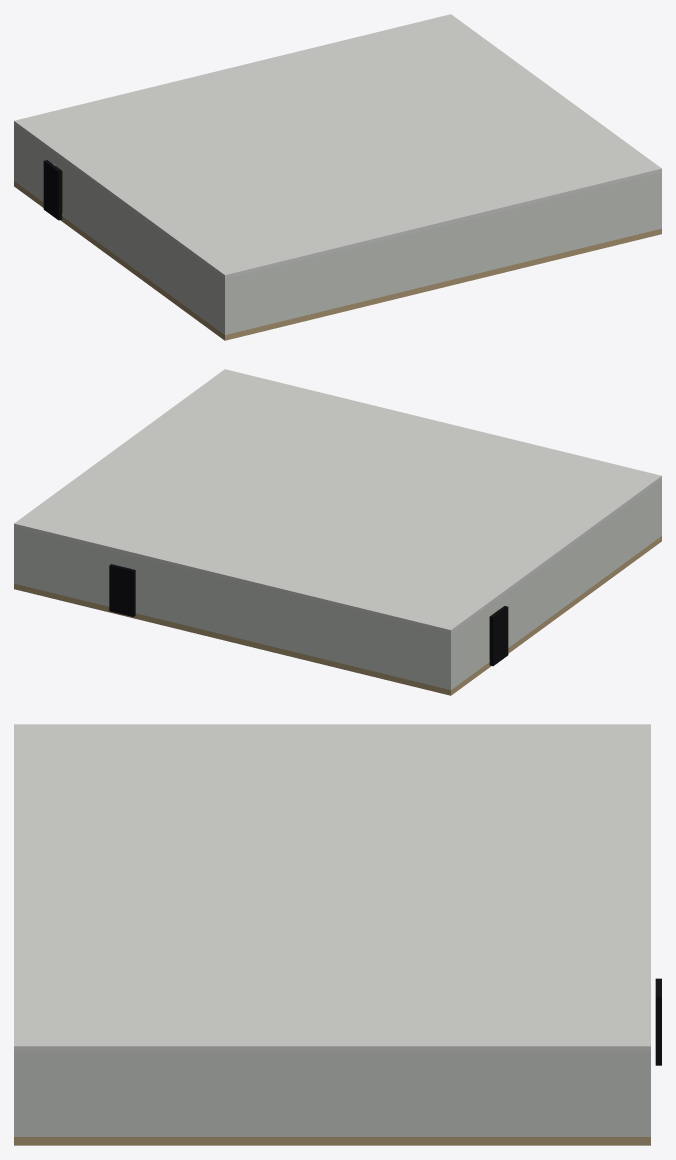
File: rdwe_office_night.glb
3 renders of one model, top to bottom at view 1: azimuth 30°, elevation 25°; view 2: azimuth 150°, elevation 25°; view 3: azimuth 270°, elevation 25°, orthographic. The views are drawn at different scales.
Visible parts, largest first — view 1: Room_Ceiling, Room_Wall_S_1, Room_Wall_W_3, Room_Floor, Room_Wall_W_1, Beyond_stairs; view 2: Room_Ceiling, Room_Wall_N_1, Room_Wall_W_3, Room_Wall_N_3, Room_Floor, Room_Wall_W_1, Beyond_lift, Beyond_stairs; view 3: Room_Ceiling, Room_Wall_E_1, Room_Floor, Beyond_lift.
Boxes of the visible parts, <box> form: Room_Ceiling: <box>14,14,661,278</box>; Room_Wall_S_1: <box>223,172,661,334</box>; Room_Wall_W_3: <box>62,160,222,333</box>; Room_Floor: <box>14,181,661,340</box>; Room_Wall_W_1: <box>16,126,55,201</box>; Beyond_stairs: <box>43,160,62,220</box>; Room_Ceiling: <box>14,369,661,633</box>; Room_Wall_N_1: <box>133,556,452,689</box>; Room_Wall_W_3: <box>496,481,659,647</box>; Room_Wall_N_3: <box>14,527,116,606</box>; Room_Floor: <box>14,536,661,695</box>; Room_Wall_W_1: <box>453,606,489,688</box>; Beyond_lift: <box>109,564,135,616</box>; Beyond_stairs: <box>489,606,508,666</box>; Room_Ceiling: <box>14,724,650,1051</box>; Room_Wall_E_1: <box>20,1052,644,1136</box>; Room_Floor: <box>14,1137,650,1145</box>; Beyond_lift: <box>655,978,661,1065</box>.
Size of the model in its own units: 24.75 by 3.5 by 20.75.
